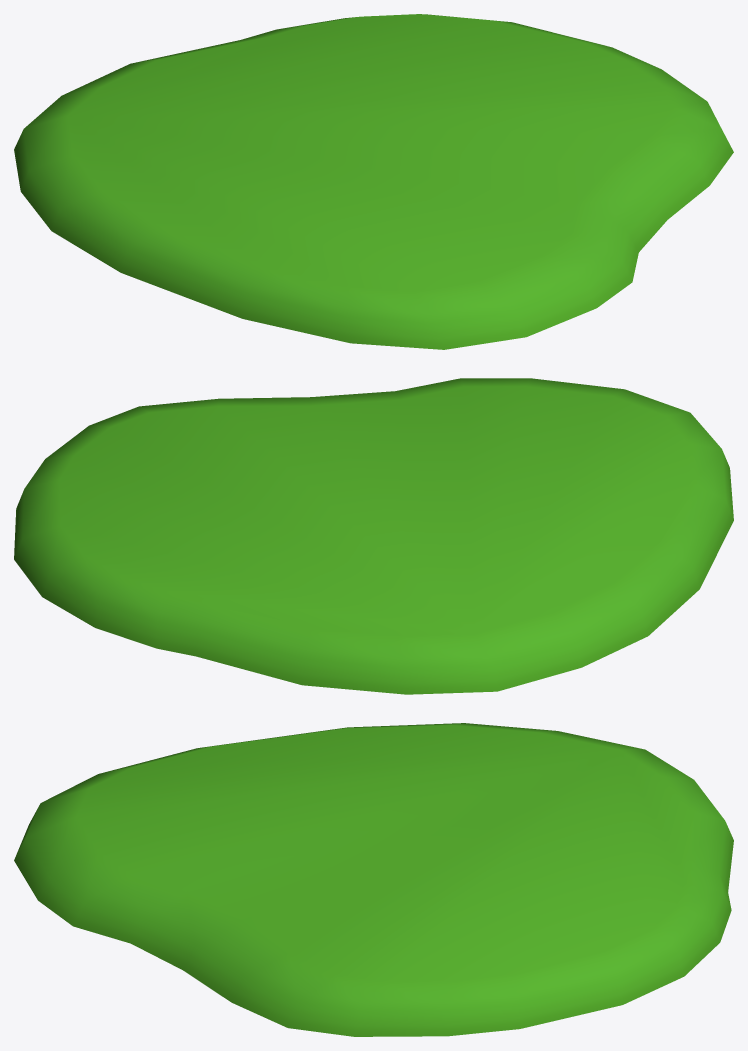
File: GrassPlane_2_C.fbx
3 renders of one model, top to bottom at view 1: azimuth 30°, elevation 25°; view 2: azimuth 150°, elevation 25°; view 3: azimuth 270°, elevation 25°, orthographic. The views are drawn at different scales.
Visible parts, largest first — view 1: GrassPlane_2_C; view 2: GrassPlane_2_C; view 3: GrassPlane_2_C.
Boxes of the visible parts, x1,y1,x2,y2 form: GrassPlane_2_C: (14,14,733,349); GrassPlane_2_C: (14,378,733,694); GrassPlane_2_C: (14,723,733,1036).
Bounding box in the file's own units: 67.76 × 3.81 × 69.53.
